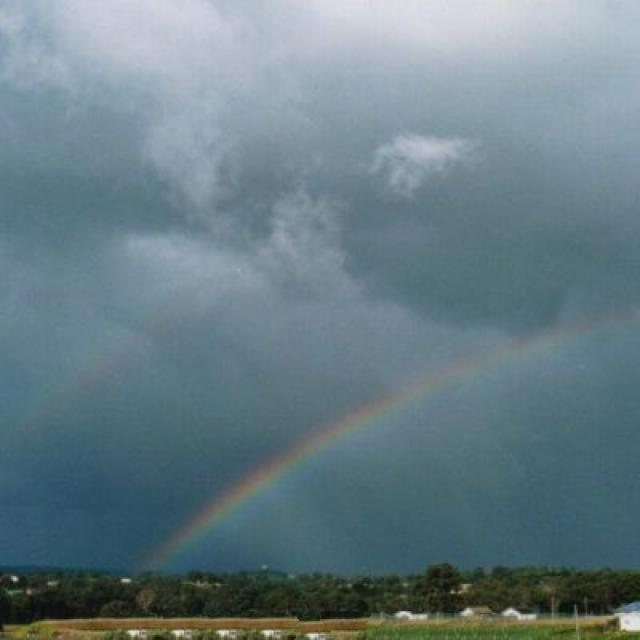St: (2, 8, 640, 419)
